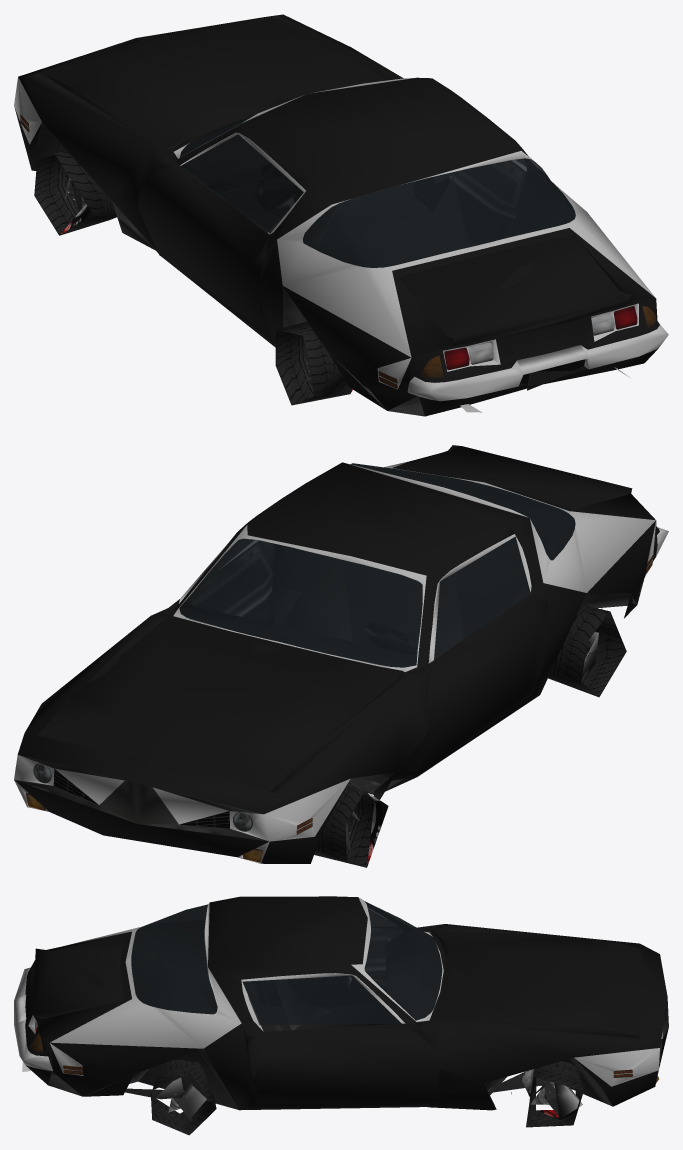
Rendered from phoenix_455_71_lod.glb.
3 views of the same model, one above another, from view 1: azimuth 30°, elevation 25°; view 2: azimuth 150°, elevation 25°; view 3: azimuth 270°, elevation 25° (orthographic). The views are drawn at different scales.
Parts seen in each view (by area): view 1: vehicle; view 2: vehicle; view 3: vehicle.
Part boxes in pixels (x1,y1,x2,y2): vehicle: (14,14,668,416); vehicle: (14,445,668,867); vehicle: (14,896,668,1135).
Bounding box in the file's own units: 2.08 × 1.3 × 4.86.
Materials: 7 (6 with a texture image).
